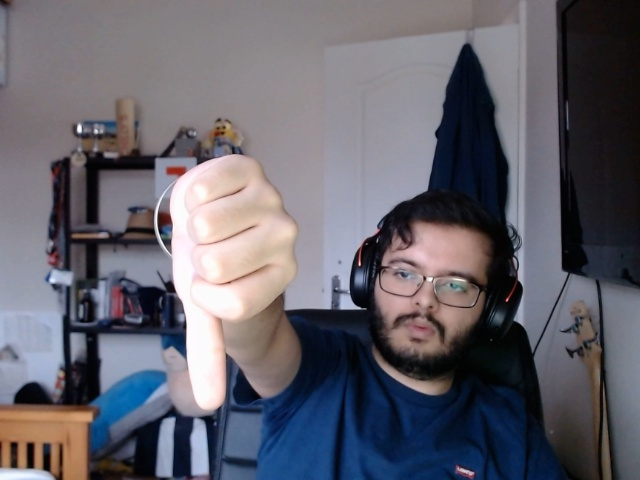Thumbs down: (164, 137, 314, 422)
